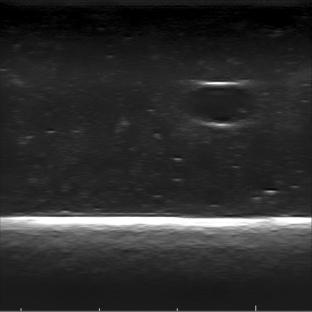vessel: (180, 81, 259, 129)
